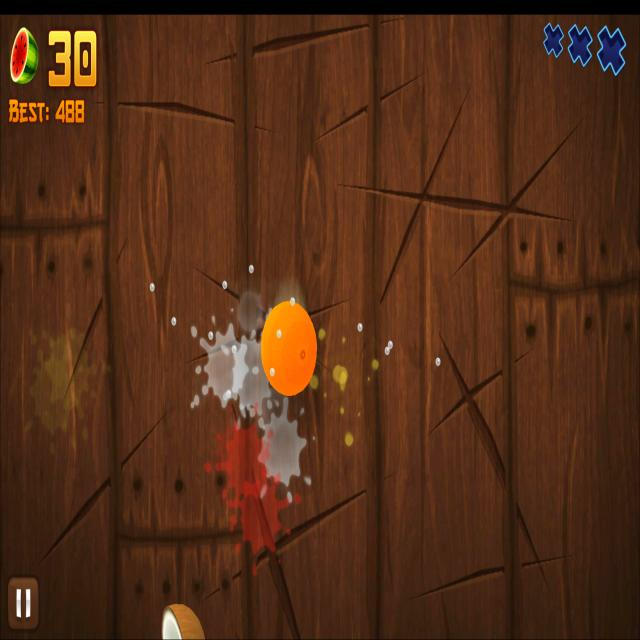fruit: (261, 302, 318, 396)
